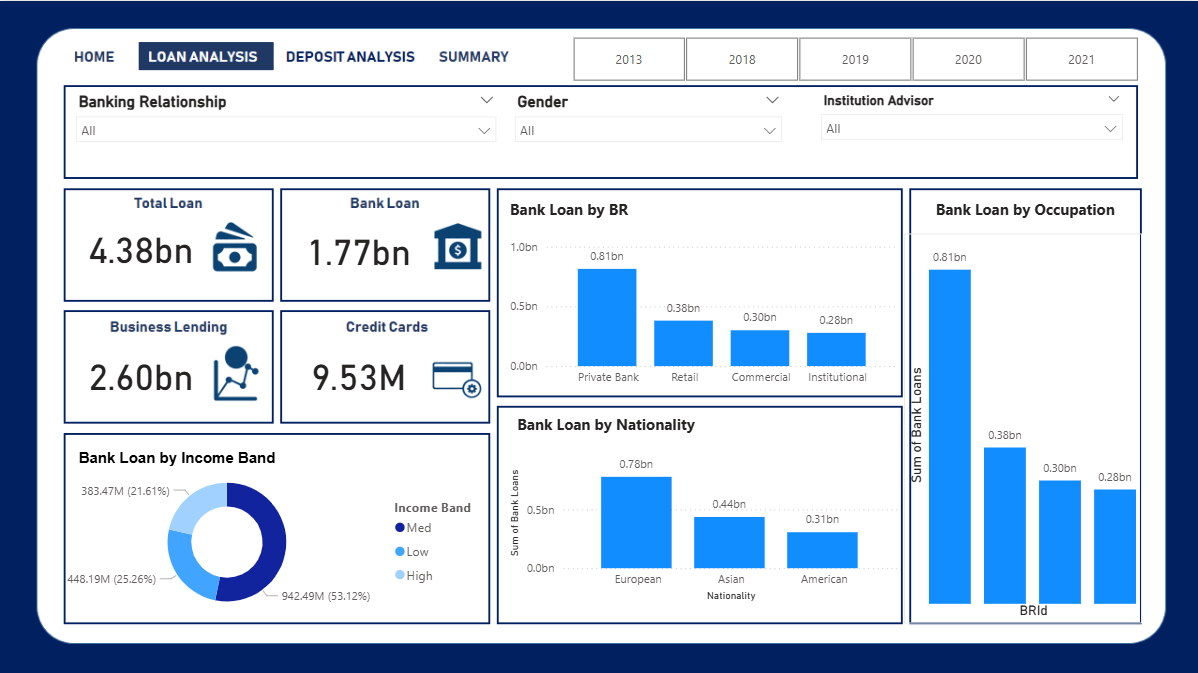

The dashboard page shown, as its layout file describes it:
{"tool":"powerbi","page":{"name":"Loan Analysis","canvas":[1280,720],"ordinal":1},"visuals":[{"type":"textbox","box":[80,473.3,231.7,31.7],"z":0},{"type":"textbox","box":[540,205,165,43.3],"z":1000},{"type":"textbox","box":[540,435,215,38.3],"z":2000},{"type":"textbox","box":[981.7,205,226.7,43.3],"z":3000},{"type":"slicer","fields":{"Values":["banking_case customer.Year of Joining"]},"box":[586.7,31.7,651.7,60],"z":4000},{"type":"actionButton","box":[60,41.7,85,36.7],"z":5000},{"type":"actionButton","box":[296.7,41.7,156.7,36.7],"z":6000},{"type":"actionButton","box":[473.3,38.3,105,40],"z":7000},{"type":"card","fields":{"Values":["banking_case customer.Total Loan"]},"box":[80,205,143.3,115],"z":8000},{"type":"card","fields":{"Values":["Sum(banking_case customer.Business Lending)"]},"box":[80,340,143.3,115],"z":9000},{"type":"card","fields":{"Values":["Sum(banking_case customer.Bank Loans)"]},"box":[311.7,206.7,143.3,115],"z":10000},{"type":"card","fields":{"Values":["Sum(banking_case customer.Credit Card Balance)"]},"box":[311.7,340,143.3,115],"z":11000},{"type":"donutChart","fields":{"Category":["banking_case customer.Income Band"],"Y":["Sum(banking_case customer.Bank Loans)"]},"box":[60,490,466.7,173.3],"z":12000},{"type":"clusteredColumnChart","fields":{"Category":["banking_case customer.BRId"],"Y":["Sum(banking_case customer.Bank Loans)"]},"box":[540,248.3,425,171.7],"z":13000},{"type":"clusteredColumnChart","fields":{"Y":["Sum(banking_case customer.Bank Loans)"],"Category":["banking_case customer.Nationality"]},"box":[540,473.3,425,171.7],"z":14000},{"type":"clusteredColumnChart","fields":{"Category":["banking_case customer.BRId"],"Y":["Sum(banking_case customer.Bank Loans)"]},"box":[965,248.3,255,415],"z":15000},{"type":"slicer","fields":{"Values":["banking_case customer.BRId"]},"box":[71.7,91.7,468.3,88.3],"z":16000},{"type":"slicer","fields":{"Values":["banking_case customer.GenderId"]},"box":[540,91.7,305,88.3],"z":17000},{"type":"slicer","fields":{"Values":["banking_case customer.IAId"]},"box":[866.7,91.7,341.7,88.3],"z":18000}]}

Visuals, with their boxes in screenshot pixels (x1, y1, x2, y2), scaled from the page's 1280x720 canvas onto the 1198x673 screenshot:
textbox: [left=75, top=442, right=292, bottom=472]
textbox: [left=505, top=192, right=660, bottom=232]
textbox: [left=505, top=407, right=707, bottom=442]
textbox: [left=919, top=192, right=1131, bottom=232]
slicer - banking_case customer.Year of Joining: [left=549, top=30, right=1159, bottom=86]
actionButton: [left=56, top=39, right=136, bottom=73]
actionButton: [left=278, top=39, right=424, bottom=73]
actionButton: [left=443, top=36, right=541, bottom=73]
card - banking_case customer.Total Loan: [left=75, top=192, right=209, bottom=299]
card - Sum(banking_case customer.Business Lending): [left=75, top=318, right=209, bottom=425]
card - Sum(banking_case customer.Bank Loans): [left=292, top=193, right=426, bottom=301]
card - Sum(banking_case customer.Credit Card Balance): [left=292, top=318, right=426, bottom=425]
donutChart - banking_case customer.Income Band x Sum(banking_case customer.Bank Loans): [left=56, top=458, right=493, bottom=620]
clusteredColumnChart - banking_case customer.BRId x Sum(banking_case customer.Bank Loans): [left=505, top=232, right=903, bottom=393]
clusteredColumnChart - Sum(banking_case customer.Bank Loans) x banking_case customer.Nationality: [left=505, top=442, right=903, bottom=603]
clusteredColumnChart - banking_case customer.BRId x Sum(banking_case customer.Bank Loans): [left=903, top=232, right=1142, bottom=620]
slicer - banking_case customer.BRId: [left=67, top=86, right=505, bottom=168]
slicer - banking_case customer.GenderId: [left=505, top=86, right=791, bottom=168]
slicer - banking_case customer.IAId: [left=811, top=86, right=1131, bottom=168]
